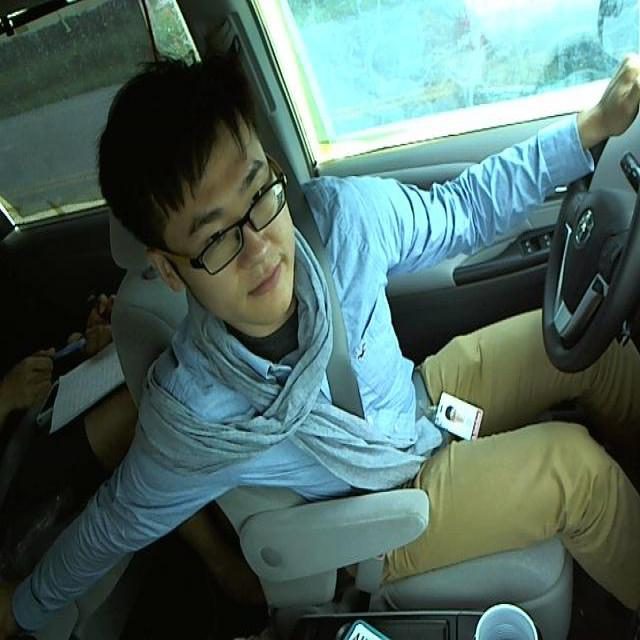seatbelt: (297, 231, 430, 484)
